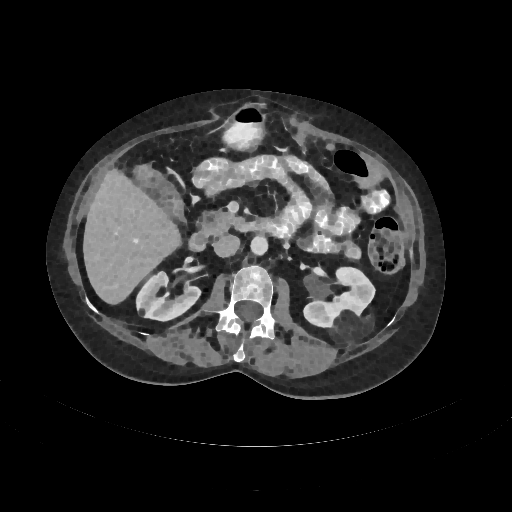Lesion: (326, 310, 376, 349)
